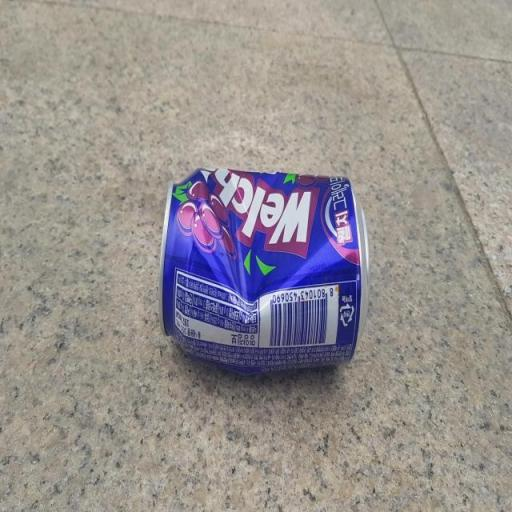metal: (137, 132, 383, 432)
